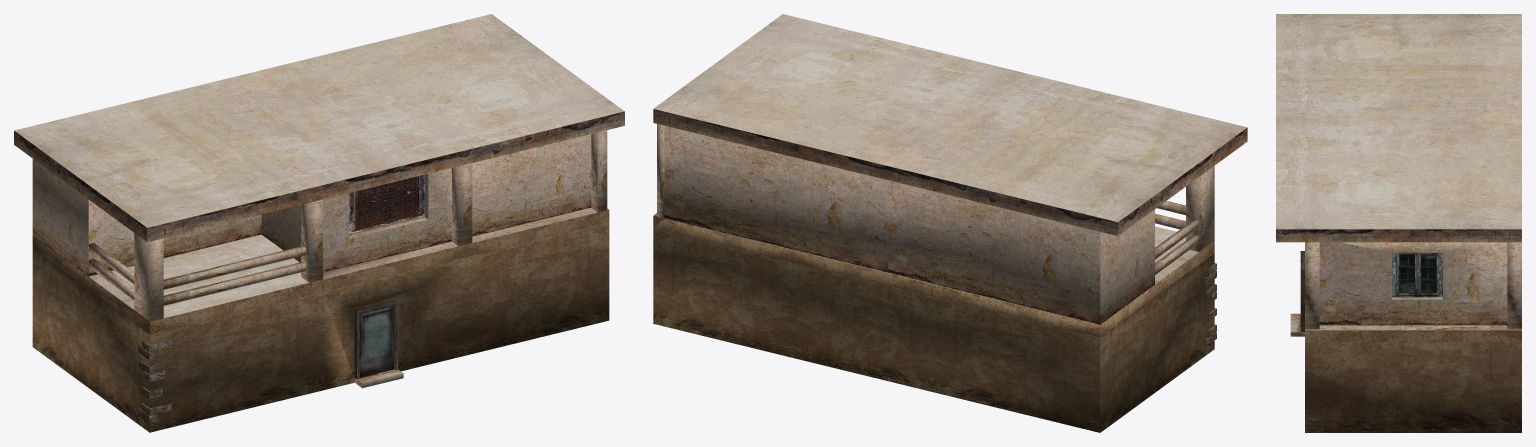
File: BuildingK2_Seperated2.fbx
3 views of the same model, side by side, from view 1: azimuth 30°, elevation 25°; view 2: azimuth 150°, elevation 25°; view 3: azimuth 270°, elevation 25° (orthographic). The views are drawn at different scales.
Parts seen in each view (by area): view 1: BuildingK2_Roof, BuildingK2_Wall1, BuildingK2_Wall2.7, BuildingK2_Wall2.6, BuildingK2, BuildingK2_Wall2.3, BuildingK2_BalconyFence, BuildingK2_Wall2.4, BuildingK2_Window1, BuildingK2_Door1, BuildingK2_Wall2Pole1, BuildingK2_Wall2Pole3 (+3 smaller); view 2: BuildingK2_Roof, BuildingK2_Wall1, BuildingK2_Wall2.2, BuildingK2_Wall2.3, BuildingK2_Wall2Pole1, BuildingK2_BalconyFence, BuildingK2, BuildingK2_Wall2Pole5; view 3: BuildingK2_Roof, BuildingK2_Wall1, BuildingK2_Wall2.1, BuildingK2_Window2, BuildingK2_Wall2Pole4, BuildingK2_Wall2Pole5, BuildingK2_Door1.
Boxes of the visible parts, x1,y1,x2,y2 form: BuildingK2_Roof: [14, 14, 624, 242]; BuildingK2_Wall1: [32, 209, 609, 432]; BuildingK2_Wall2.7: [472, 134, 607, 242]; BuildingK2_Wall2.6: [323, 168, 457, 279]; BuildingK2: [89, 234, 308, 317]; BuildingK2_Wall2.3: [32, 159, 88, 276]; BuildingK2_BalconyFence: [89, 243, 305, 305]; BuildingK2_Wall2.4: [88, 200, 261, 276]; BuildingK2_Window1: [348, 174, 428, 238]; BuildingK2_Door1: [354, 300, 403, 388]; BuildingK2_Wall2Pole1: [134, 233, 163, 321]; BuildingK2_Wall2Pole3: [452, 163, 472, 246]; BuildingK2_Roof: [653, 14, 1247, 235]; BuildingK2_Wall1: [653, 216, 1216, 432]; BuildingK2_Wall2.2: [664, 125, 1100, 324]; BuildingK2_Wall2.3: [1100, 209, 1154, 324]; BuildingK2_Wall2Pole1: [1186, 166, 1214, 251]; BuildingK2_BalconyFence: [1155, 201, 1198, 274]; BuildingK2: [716, 226, 1198, 310]; BuildingK2_Wall2Pole5: [657, 124, 664, 217]; BuildingK2_Roof: [1276, 14, 1521, 242]; BuildingK2_Wall1: [1305, 330, 1521, 432]; BuildingK2_Wall2.1: [1305, 242, 1521, 330]; BuildingK2_Window2: [1391, 253, 1442, 299]; BuildingK2_Wall2Pole4: [1305, 242, 1319, 329]; BuildingK2_Wall2Pole5: [1507, 242, 1521, 328]; BuildingK2_Door1: [1290, 251, 1304, 336].
Size of the model in its own units: 2122 by 938 by 1025.
